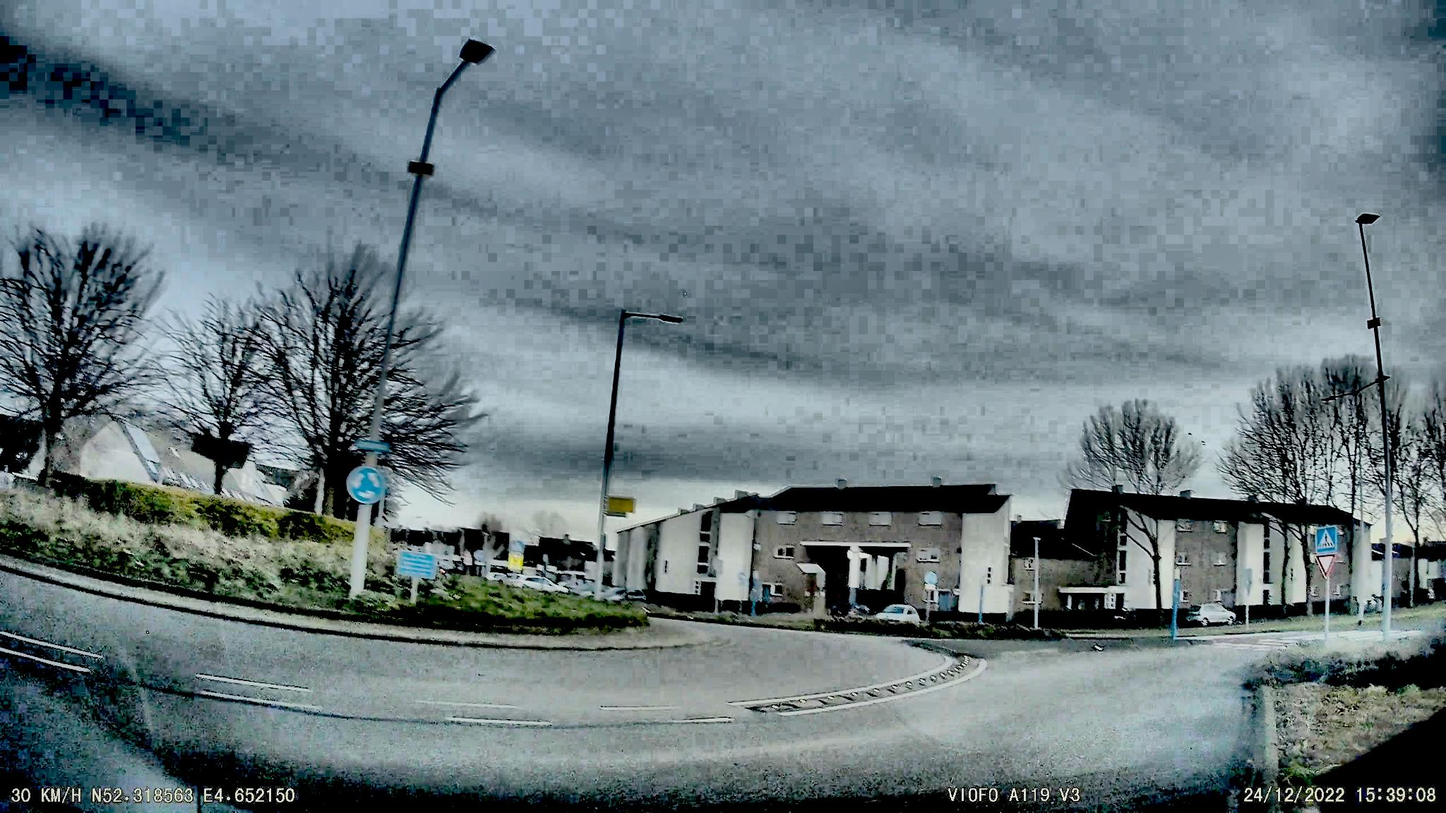Roads: (0, 565, 1253, 813)
